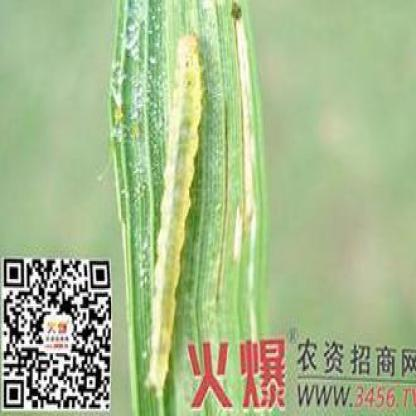leaf-folder: (147, 20, 211, 331)
